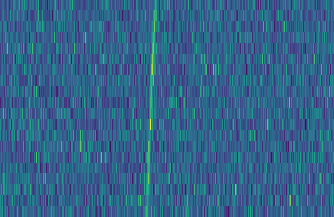signal: (142, 0, 160, 217)
